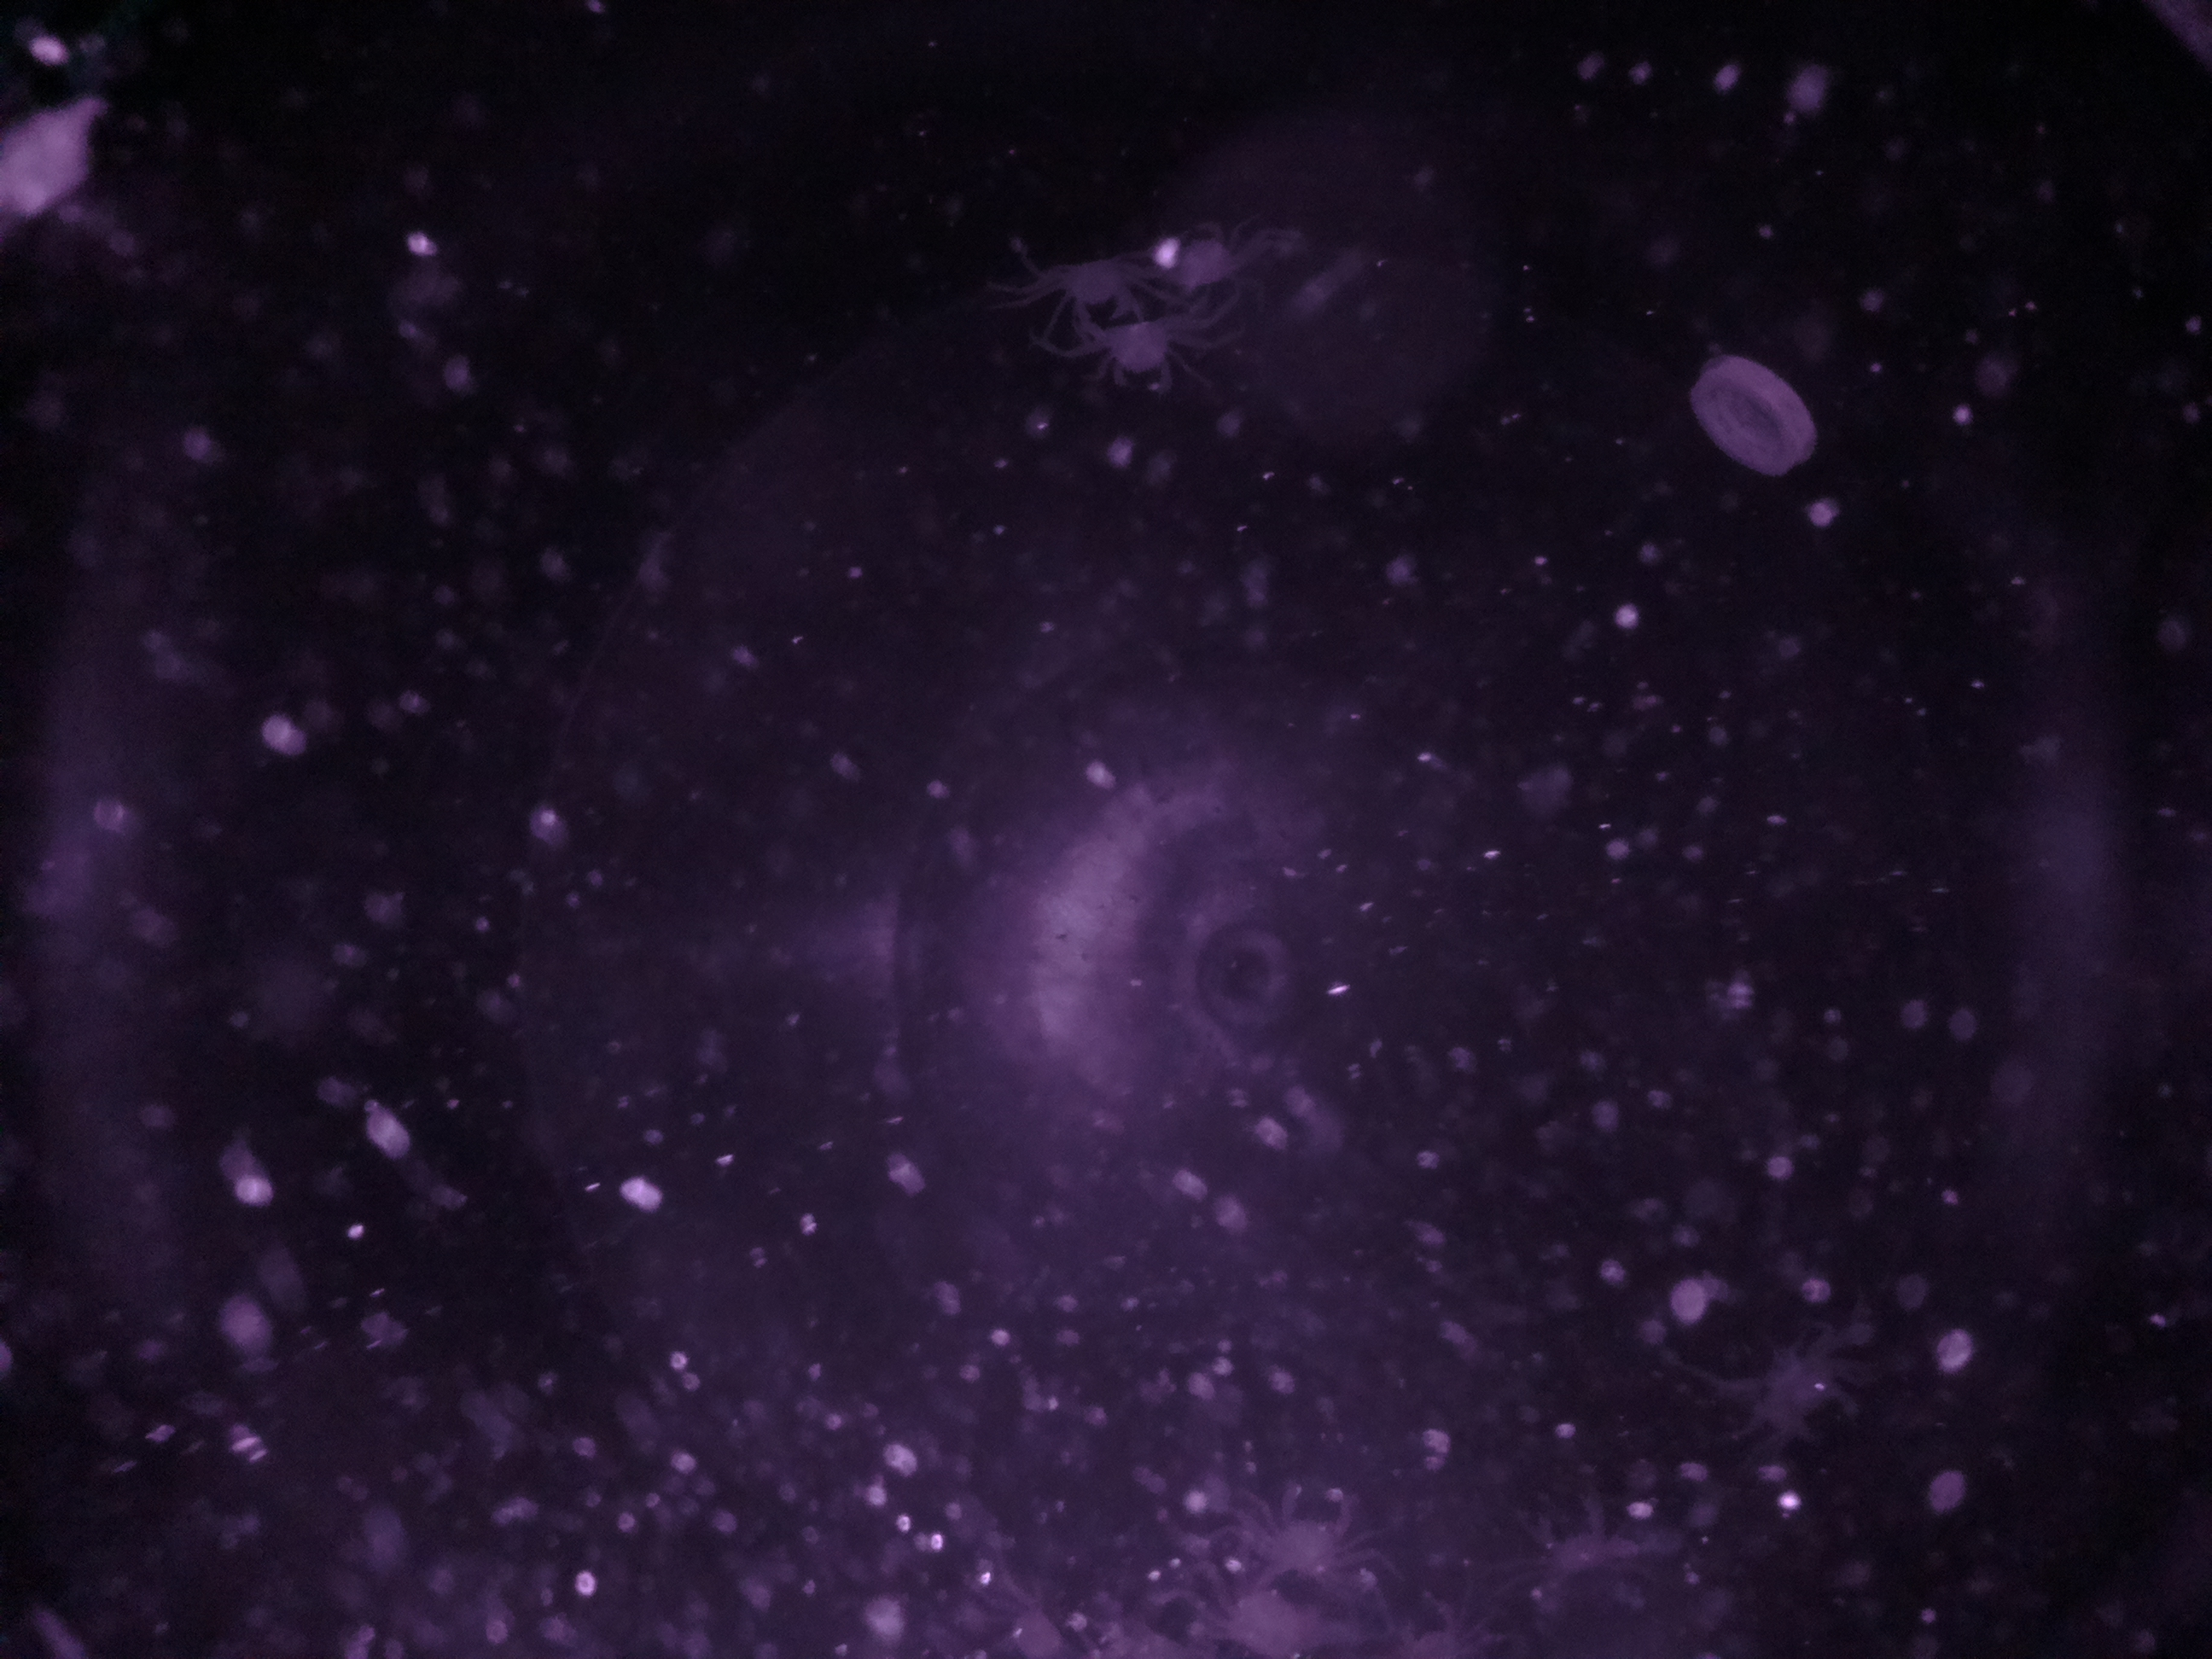Crab: (1258, 1462, 1364, 1596), (1517, 1490, 1641, 1593), (1090, 298, 1191, 399), (1050, 237, 1146, 336)
